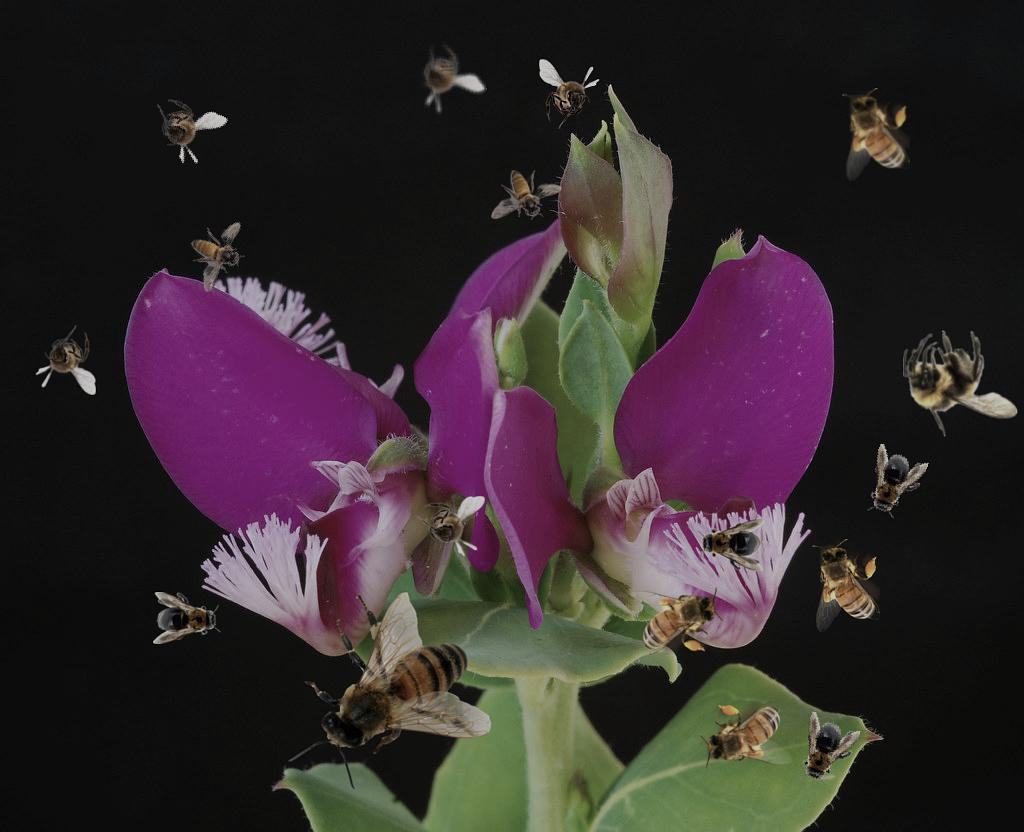Bee: (288, 592, 492, 791), (903, 330, 1018, 437), (397, 31, 488, 125), (138, 86, 229, 174), (174, 209, 262, 294), (812, 539, 880, 632), (842, 88, 910, 181), (700, 701, 793, 769), (630, 587, 723, 655), (856, 442, 930, 526), (788, 710, 862, 794), (35, 325, 96, 395), (539, 59, 600, 129), (415, 496, 485, 557), (491, 170, 562, 220), (697, 519, 765, 571), (153, 592, 221, 644)
